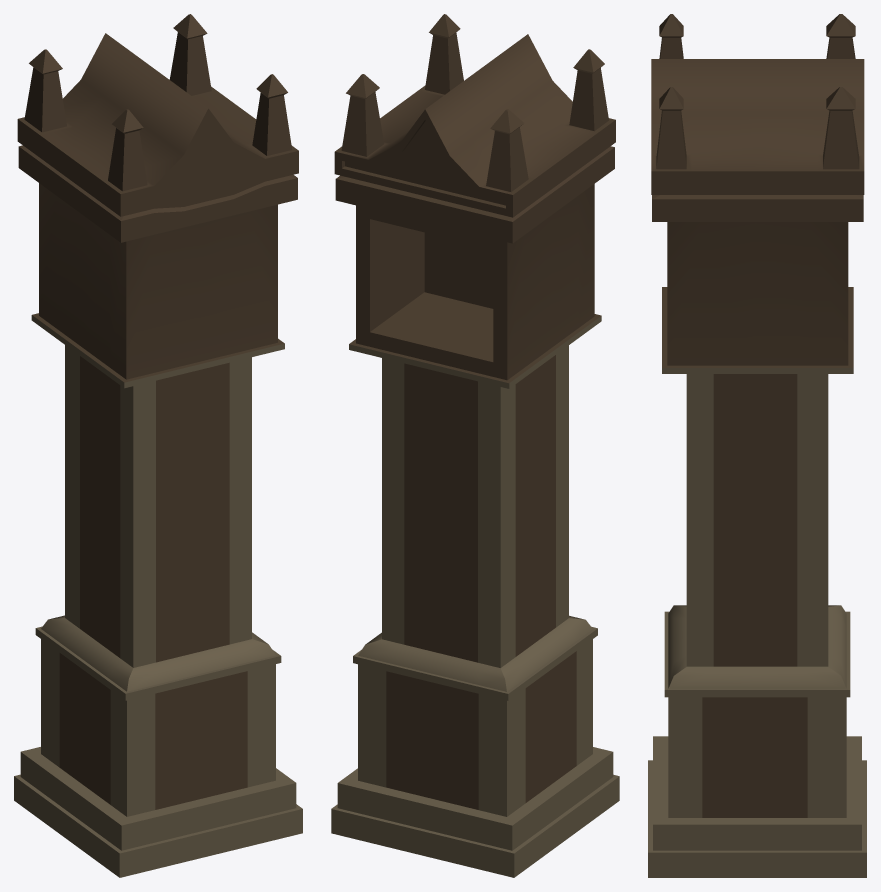
The model's file is 3Dobject_clocktower.fbx.
3 views of the same model, side by side, from view 1: azimuth 30°, elevation 25°; view 2: azimuth 150°, elevation 25°; view 3: azimuth 270°, elevation 25° (orthographic). The views are drawn at different scales.
Visible parts, largest first — view 1: pCube2; view 2: pCube2; view 3: pCube2.
Boxes of the visible parts, x1,y1,x2,y2 form: pCube2: (14, 14, 302, 877); pCube2: (331, 14, 619, 877); pCube2: (648, 14, 866, 877).
Size of the model in its own units: 0.749 by 2.95 by 0.749.
